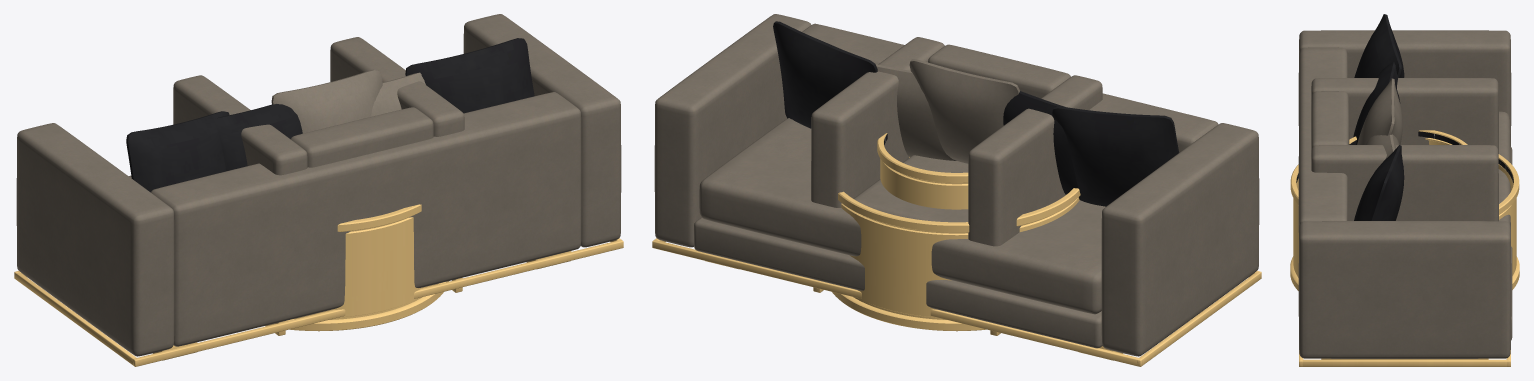
File: props_furniture.glb
3 views of the same model, side by side, from view 1: azimuth 30°, elevation 25°; view 2: azimuth 150°, elevation 25°; view 3: azimuth 270°, elevation 25° (orthographic). The views are drawn at different scales.
Parts seen in each view (by area): view 1: sofa, armchair, coffeeTable; view 2: sofa, armchair, coffeeTable, brassTable; view 3: sofa, armchair, coffeeTable, brassTable.
Boxes of the visible parts, x1,y1,x2,y2 form: sofa: (14,14,623,366); armchair: (173,37,464,335); coffeeTable: (265,204,449,331); sofa: (652,14,1261,366); armchair: (811,37,1102,335); coffeeTable: (832,188,1080,331); brassTable: (877,133,968,209); sofa: (1298,14,1512,366); armchair: (1311,78,1498,221); coffeeTable: (1290,154,1519,290); brassTable: (1349,130,1467,144).
Size of the model in its own units: 2.21 by 0.8641 by 1.03.
4 materials, 4 textured.
